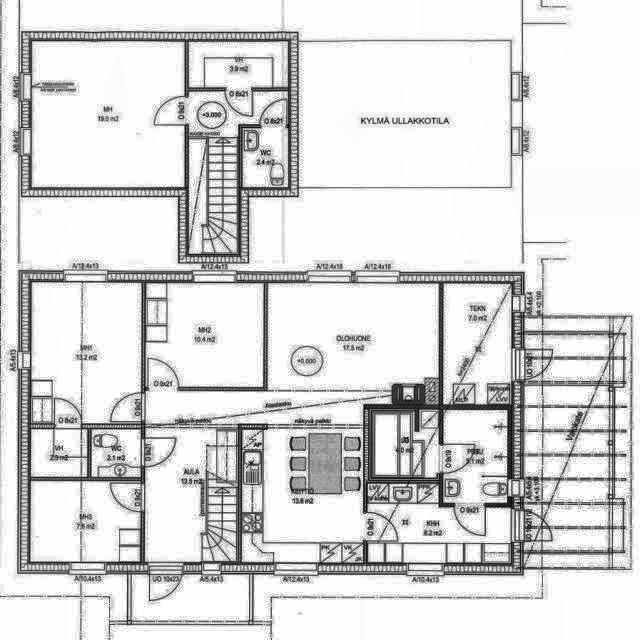room: (31, 41, 184, 187), (31, 282, 142, 424), (145, 283, 264, 387), (367, 484, 511, 564), (30, 481, 141, 562), (443, 284, 512, 405), (443, 410, 508, 503), (188, 41, 288, 88), (31, 429, 88, 477), (243, 128, 288, 187), (91, 429, 141, 478)
